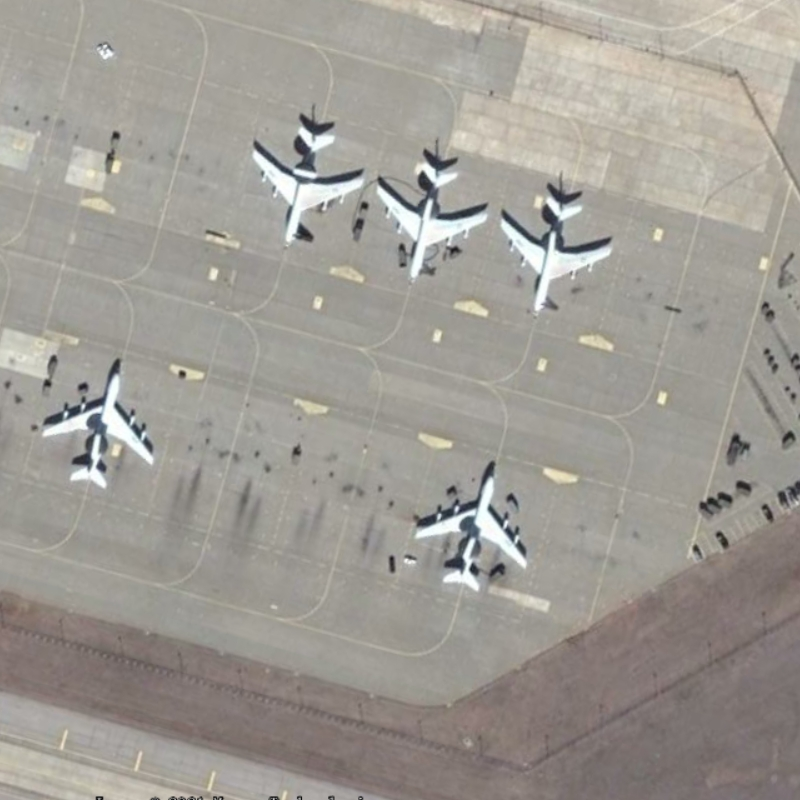A7: (33, 351, 162, 494), (372, 147, 495, 296), (495, 183, 620, 324), (247, 112, 369, 251), (410, 465, 535, 597)
